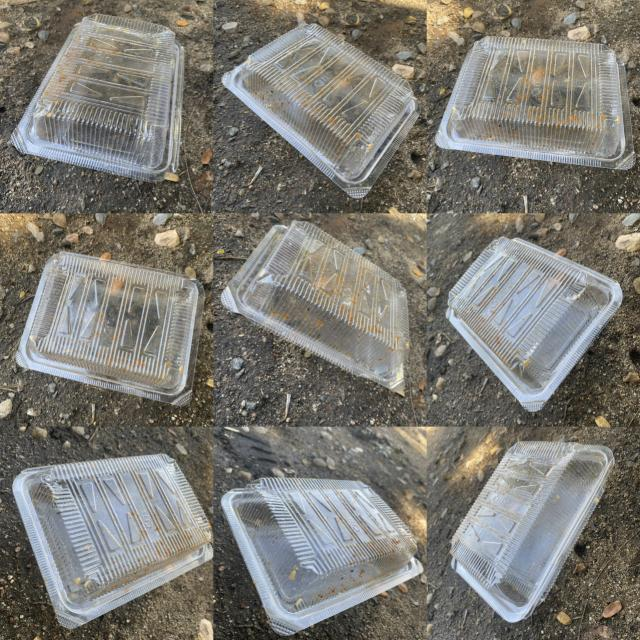Single-Use-Plastic: (12, 455, 212, 629), (221, 24, 420, 198), (221, 221, 410, 392), (221, 478, 421, 634), (446, 238, 622, 411), (450, 441, 614, 622), (15, 252, 205, 405), (11, 14, 184, 182), (435, 36, 635, 169)
